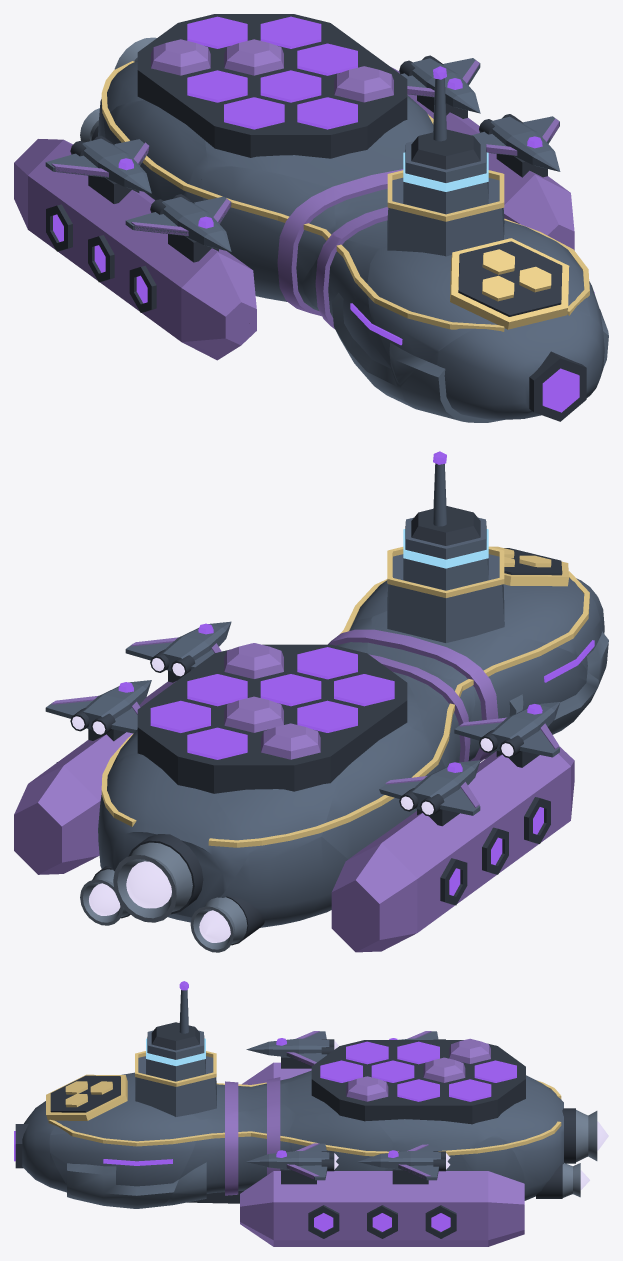
Rendered from hive_wreck.glb.
The picture shows the model from 3 angles, top to bottom: view 1: azimuth 30°, elevation 25°; view 2: azimuth 150°, elevation 25°; view 3: azimuth 270°, elevation 25°; orthographic projection. The views are drawn at different scales.
Visible parts, largest first — view 1: hive_wreck_06, hive_wreck_14, hive_wreck_10, hive_wreck_08, hive_wreck_05, hive_wreck_04, hive_wreck_13, hive_wreck_15, hive_wreck_11, hive_wreck_02, hive_wreck_17, hive_wreck_09 (+5 smaller); view 2: hive_wreck_05, hive_wreck_01, hive_wreck_04, hive_wreck_15, hive_wreck_12, hive_wreck_10, hive_wreck_06, hive_wreck_18, hive_wreck_14, hive_wreck_13, hive_wreck_11, hive_wreck_17 (+5 smaller); view 3: hive_wreck_09, hive_wreck_02, hive_wreck_01, hive_wreck_17, hive_wreck_00, hive_wreck_19, hive_wreck_04, hive_wreck_18, hive_wreck_10, hive_wreck_16, hive_wreck_15, hive_wreck_08 (+4 smaller).
Part boxes in pixels (bbox=[...]): hive_wreck_06: bbox=[125, 166, 335, 357]; hive_wreck_14: bbox=[363, 184, 552, 384]; hive_wreck_10: bbox=[198, 67, 409, 187]; hive_wreck_08: bbox=[400, 293, 604, 422]; hive_wreck_05: bbox=[14, 83, 208, 252]; hive_wreck_04: bbox=[332, 66, 504, 249]; hive_wreck_13: bbox=[56, 182, 221, 360]; hive_wreck_15: bbox=[101, 16, 262, 117]; hive_wreck_11: bbox=[229, 236, 412, 407]; hive_wreck_02: bbox=[395, 76, 559, 185]; hive_wreck_17: bbox=[253, 14, 409, 96]; hive_wreck_09: bbox=[492, 180, 608, 367]; hive_wreck_05: bbox=[321, 712, 480, 935]; hive_wreck_01: bbox=[80, 733, 249, 937]; hive_wreck_04: bbox=[361, 451, 504, 678]; hive_wreck_15: bbox=[177, 698, 351, 853]; hive_wreck_12: bbox=[189, 836, 412, 952]; hive_wreck_10: bbox=[235, 643, 423, 732]; hive_wreck_06: bbox=[405, 672, 574, 815]; hive_wreck_18: bbox=[14, 750, 118, 874]; hive_wreck_14: bbox=[488, 546, 604, 681]; hive_wreck_13: bbox=[434, 751, 571, 909]; hive_wreck_11: bbox=[466, 636, 598, 761]; hive_wreck_17: bbox=[117, 648, 266, 759]; hive_wreck_09: bbox=[49, 1074, 200, 1208]; hive_wreck_02: bbox=[258, 1098, 393, 1240]; hive_wreck_01: bbox=[495, 1074, 608, 1200]; hive_wreck_17: bbox=[362, 1062, 503, 1154]; hive_wreck_00: bbox=[160, 1102, 296, 1206]; hive_wreck_19: bbox=[370, 1143, 464, 1240]; hive_wreck_04: bbox=[146, 981, 282, 1120]; hive_wreck_18: bbox=[447, 1135, 526, 1246]; hive_wreck_10: bbox=[282, 1040, 424, 1115]; hive_wreck_16: bbox=[240, 1158, 368, 1246]; hive_wreck_15: bbox=[415, 1038, 550, 1087]; hive_wreck_08: bbox=[14, 1090, 90, 1202].
Size of the model in its own units: 6.19 by 4.46 by 10.66.
